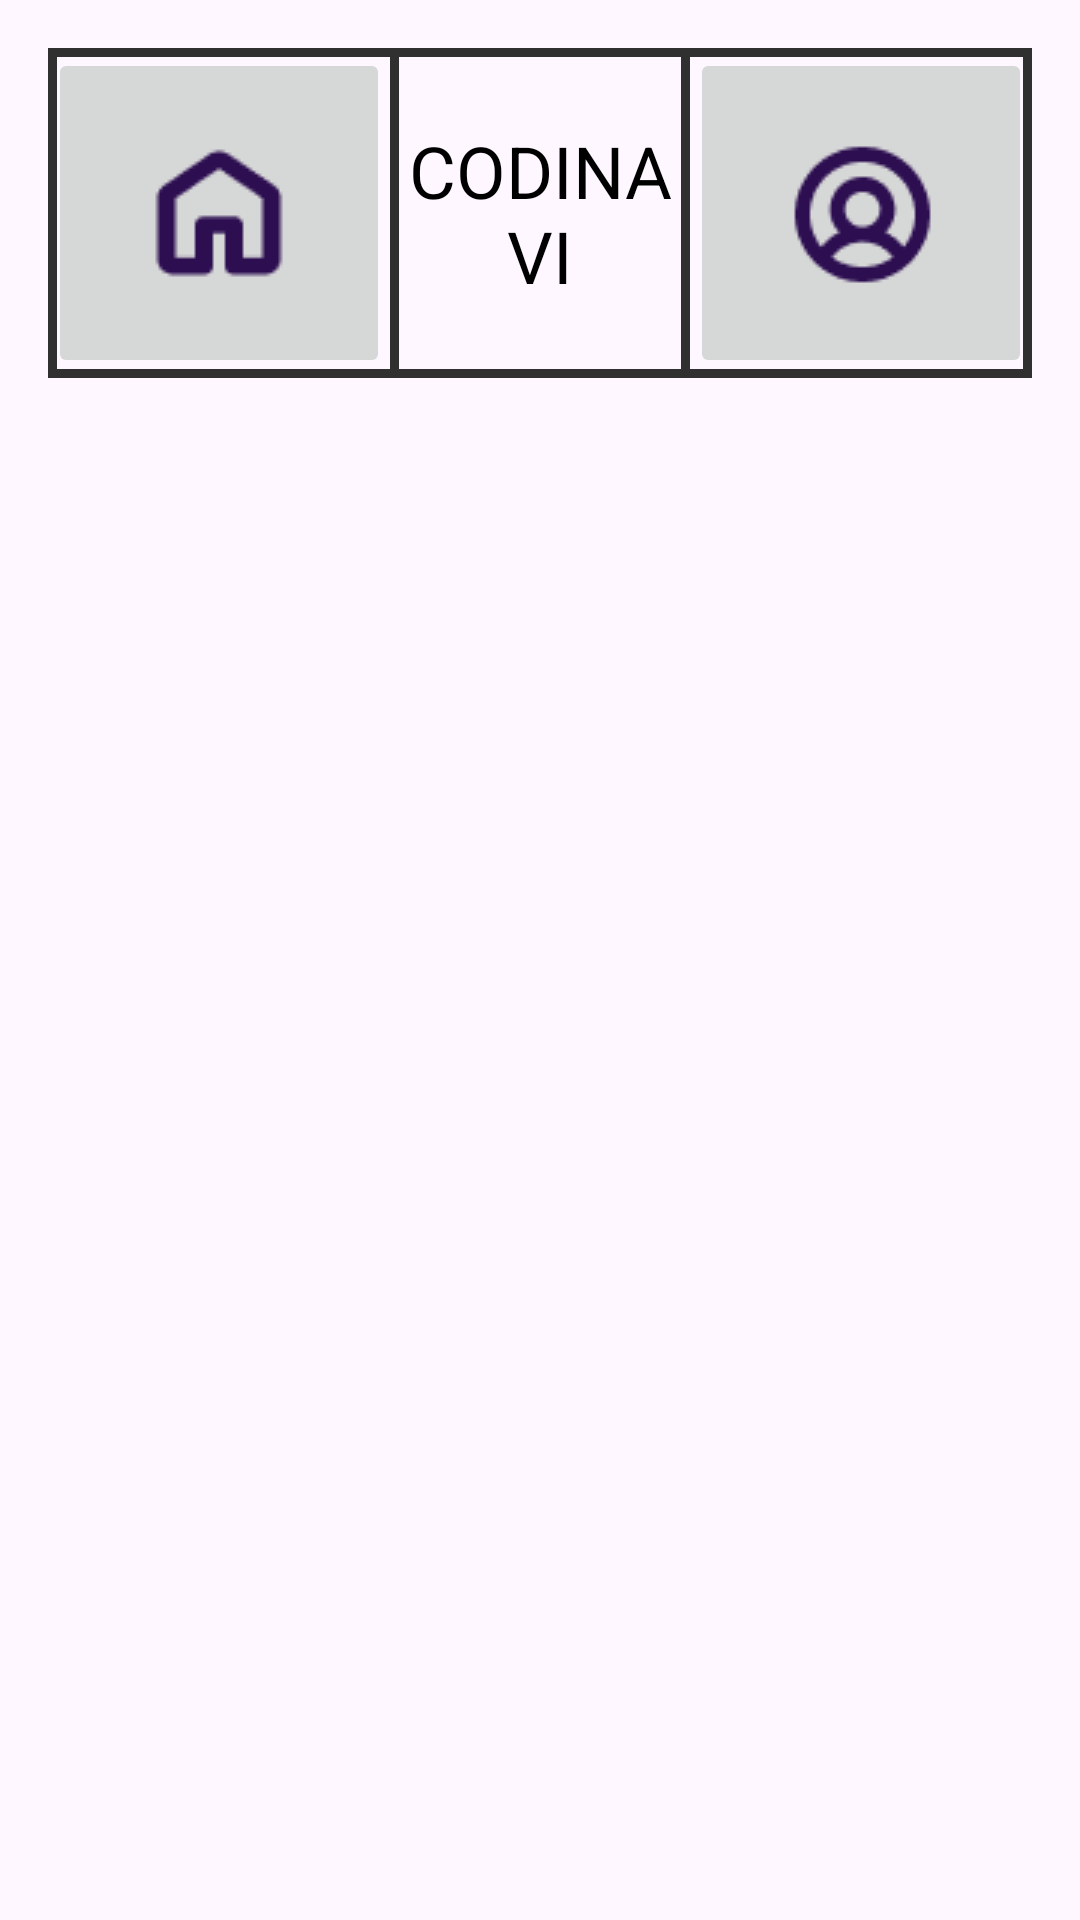

Named icons in this screenshot (1080×1920) and their centers, (x,y):
home: (219,213)
profile: (861,213)
